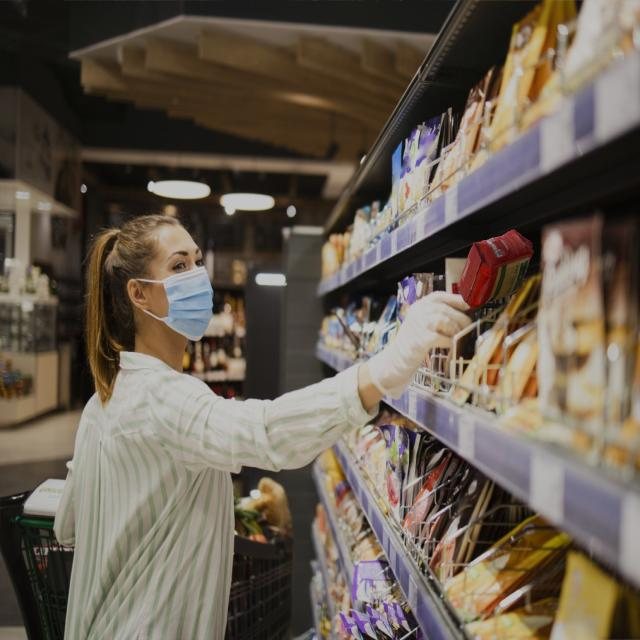mate bag: (456, 227, 534, 310)
